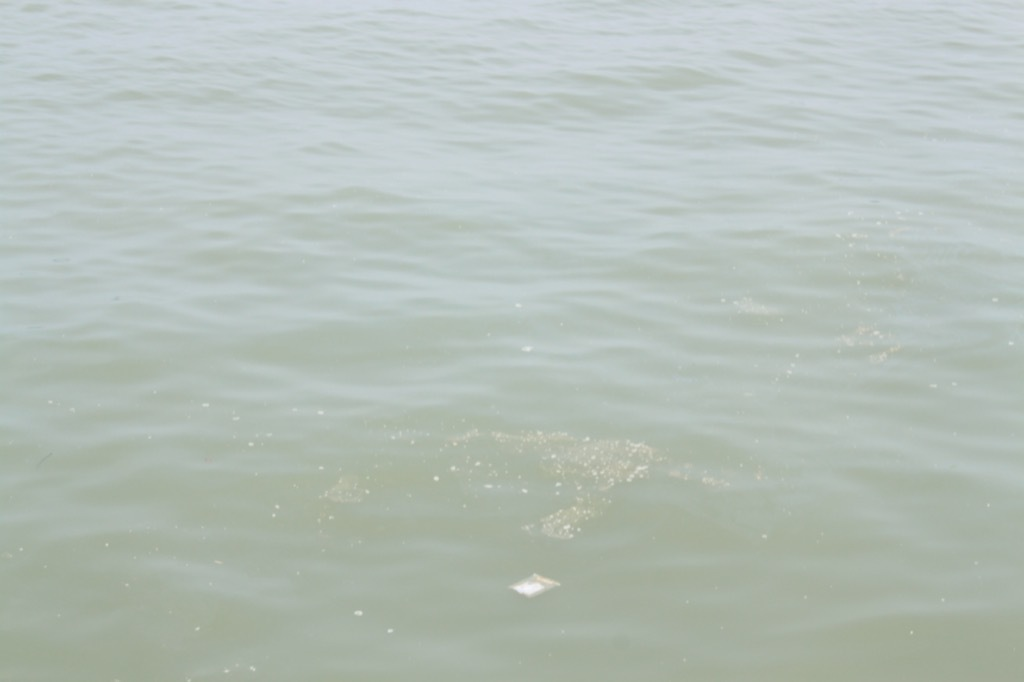plastic: (502, 557, 574, 607)
